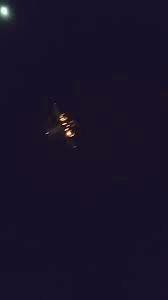Plane: (29, 89, 97, 159)
